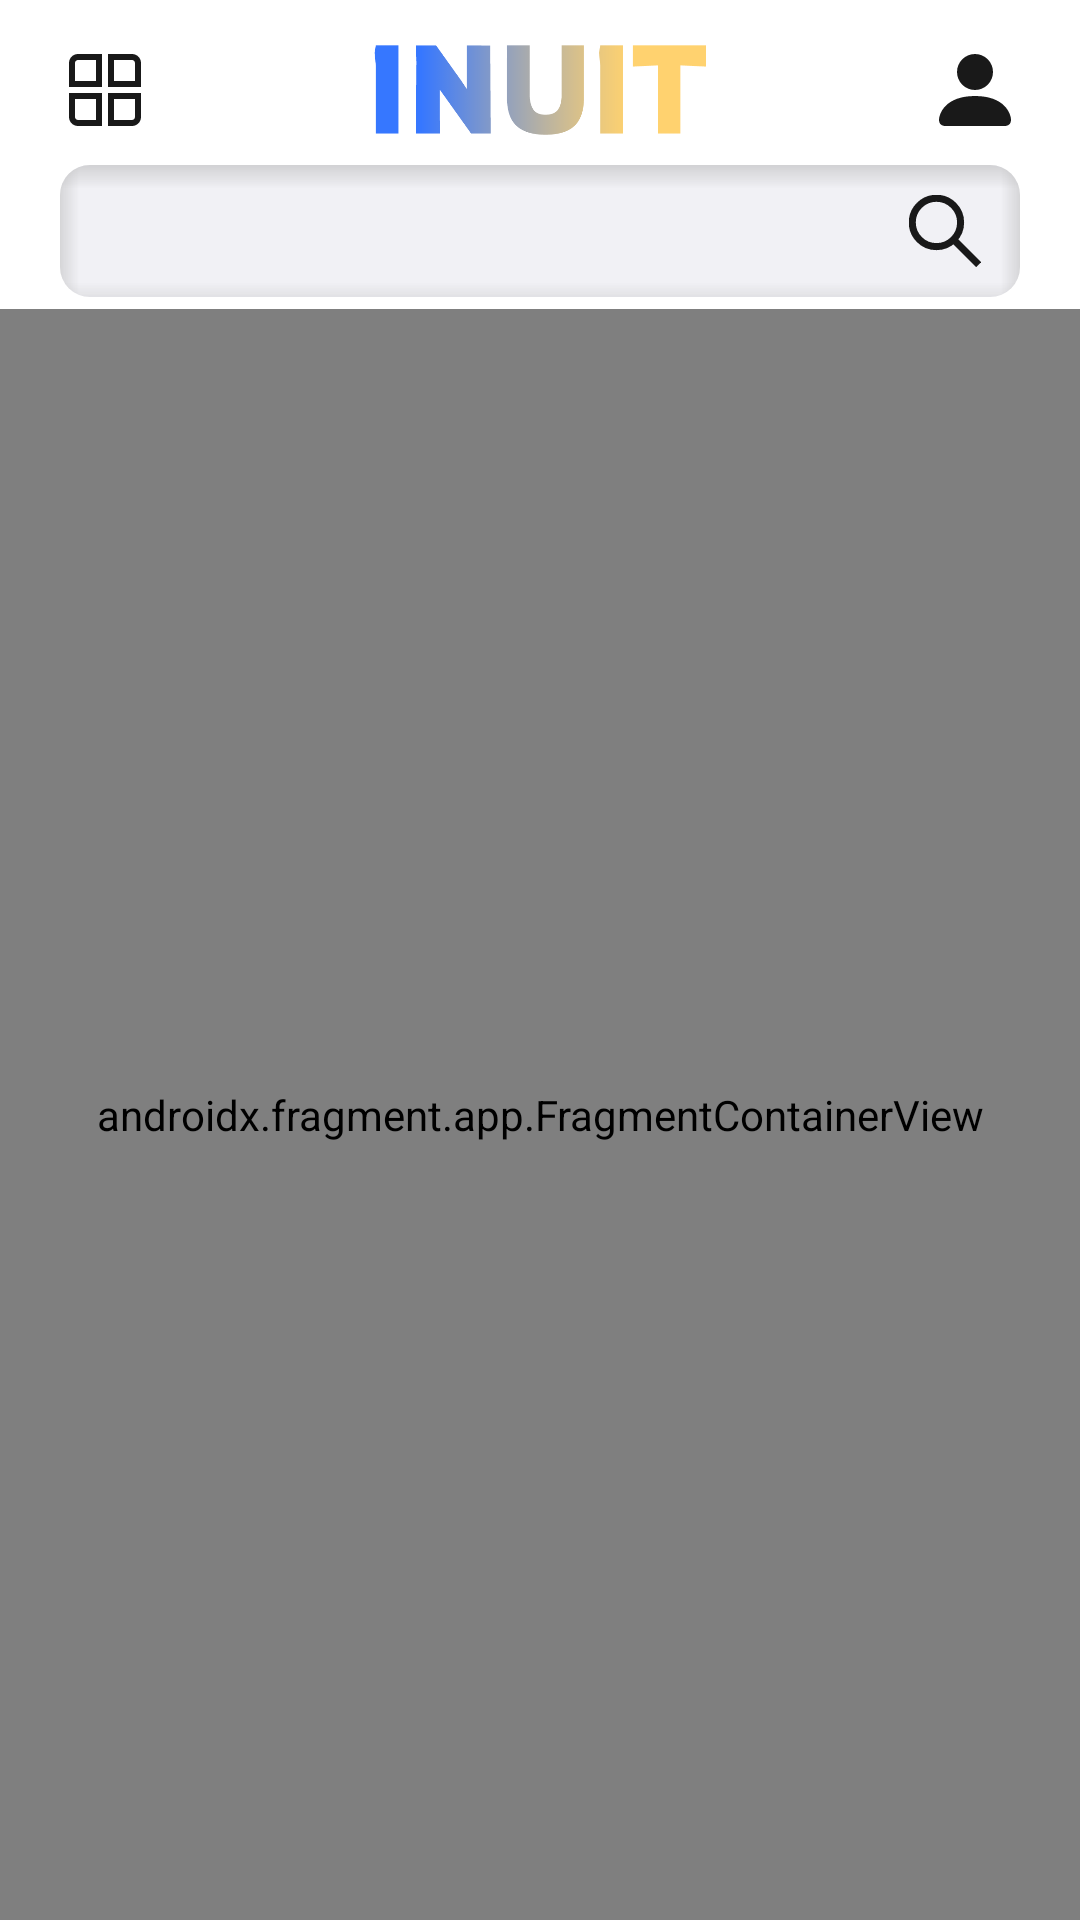

Named icons in this screenshot (1080px x 1920px) and their centers, point (x, y):
category: point (105, 90)
myprofile: point (975, 90)
search: point (945, 231)
